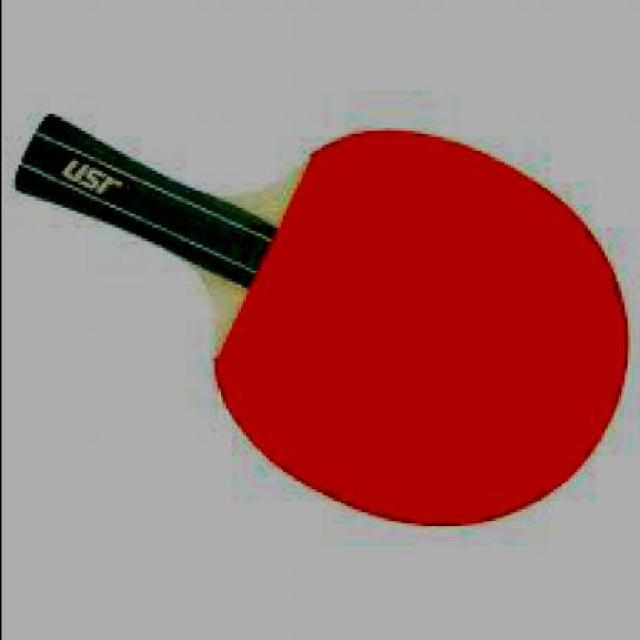table_tennis_racket: (209, 132, 634, 533)
